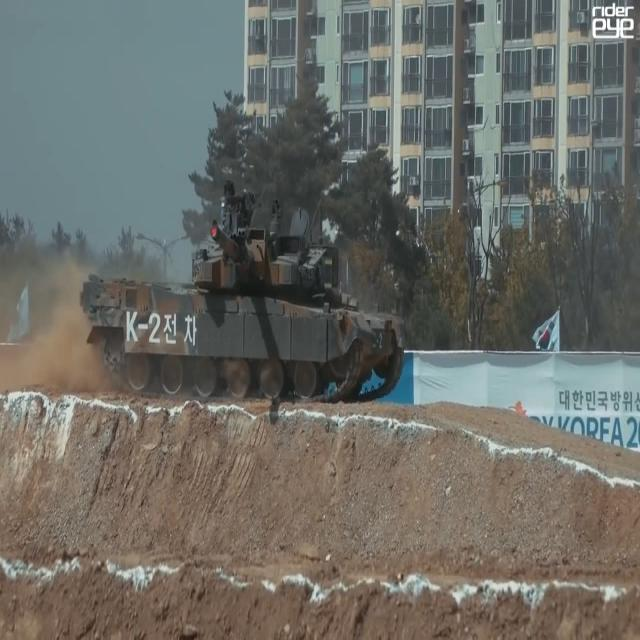korea tank: (78, 174, 408, 411)
